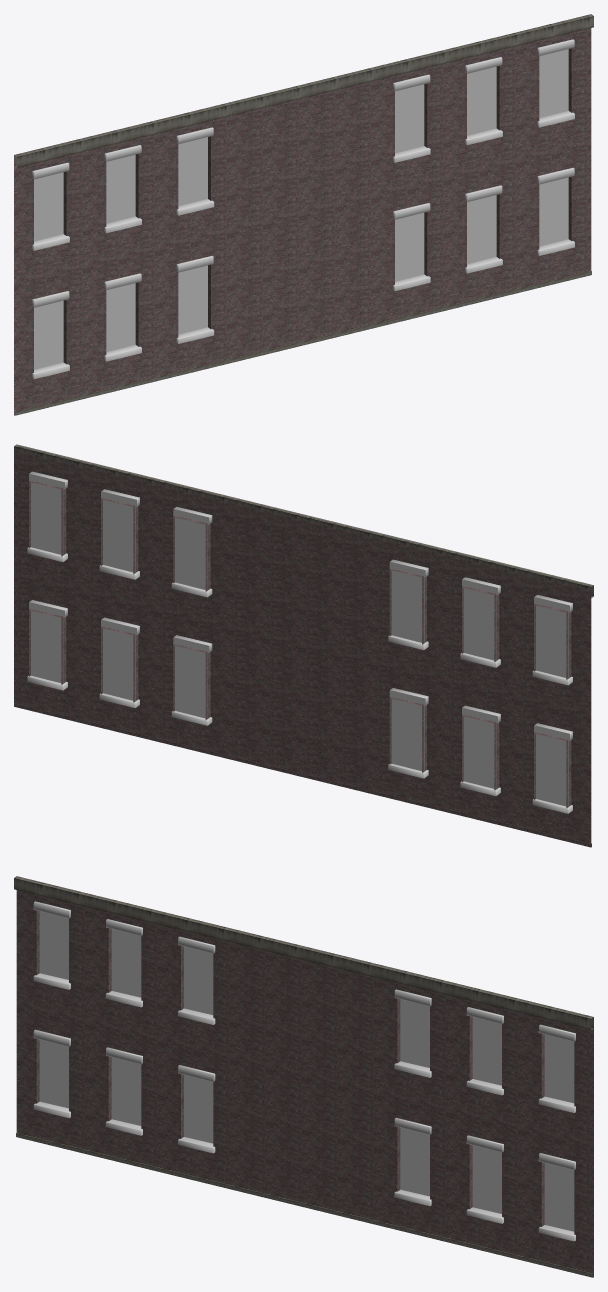
The model's file is W_WindowSet_A_16x.FBX.
The picture shows the model from 3 angles, top to bottom: view 1: azimuth 30°, elevation 25°; view 2: azimuth 150°, elevation 25°; view 3: azimuth 330°, elevation 25°; orthographic projection.
Parts seen in each view (by area): view 1: W_WindowSet_A_16x; view 2: W_WindowSet_A_16x; view 3: W_WindowSet_A_16x.
Part boxes in pixels (box(x1,y1,x2,y2)): W_WindowSet_A_16x: box(14, 14, 593, 415); W_WindowSet_A_16x: box(14, 444, 593, 847); W_WindowSet_A_16x: box(14, 876, 593, 1277).
Bounding box in the file's own units: 1600 × 690 × 35.99.
